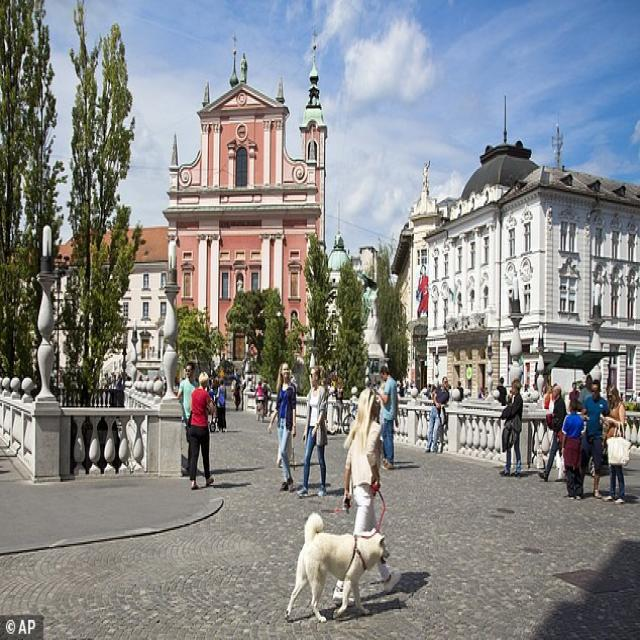body: (173, 446, 640, 503), (331, 386, 403, 604), (98, 358, 353, 412), (396, 370, 640, 419), (326, 556, 439, 628), (265, 356, 298, 492), (186, 367, 221, 493), (296, 366, 328, 497), (601, 378, 632, 508), (578, 378, 609, 501), (536, 383, 568, 483), (496, 375, 524, 479), (374, 366, 398, 472), (562, 396, 586, 501), (421, 374, 451, 456), (177, 360, 199, 428), (413, 260, 433, 322), (213, 375, 228, 432), (260, 375, 272, 415), (493, 375, 508, 406), (254, 380, 266, 412), (456, 380, 464, 403)
